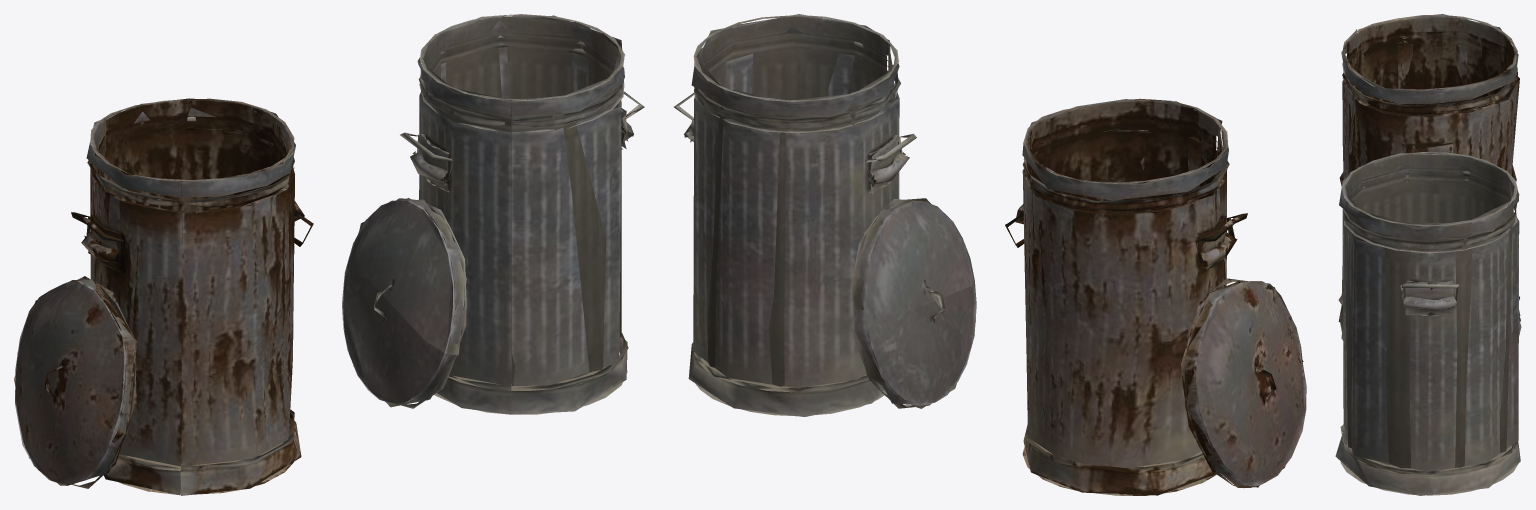
File: ph_metal_trash_can.glb
The picture shows the model from 3 angles, left to right: view 1: azimuth 30°, elevation 25°; view 2: azimuth 150°, elevation 25°; view 3: azimuth 270°, elevation 25°; orthographic projection. The views are drawn at different scales.
Visible parts, largest first — view 1: metal_trash_can_handle_left; view 2: metal_trash_can_handle_left; view 3: metal_trash_can_handle_left.
Part boxes in pixels (x1=…): metal_trash_can_handle_left: x1=14, y1=14, x2=644, y2=495; metal_trash_can_handle_left: x1=673, y1=14, x2=1306, y2=495; metal_trash_can_handle_left: x1=1335, y1=14, x2=1521, y2=495.
Bounding box in the file's own units: 1.77 × 0.9064 × 0.5692.
Materials: 3 (3 with a texture image).
